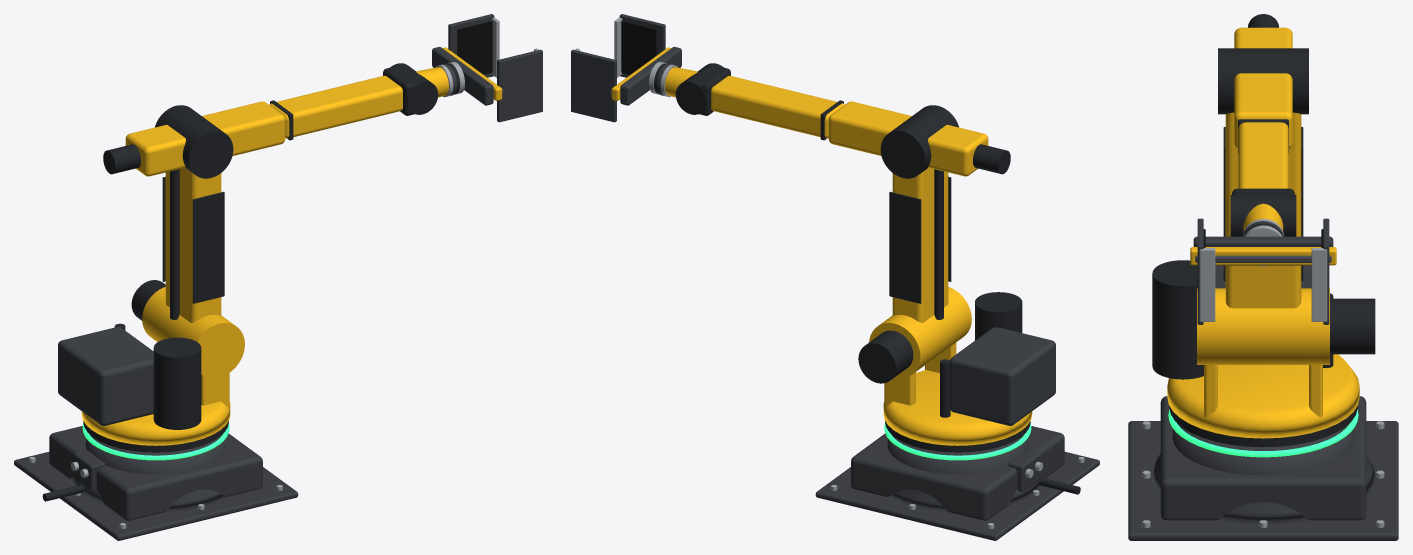
The model's file is robot_palletizer.glb.
3 renders of one model, left to right at view 1: azimuth 30°, elevation 25°; view 2: azimuth 150°, elevation 25°; view 3: azimuth 270°, elevation 25°, orthographic. The views are drawn at different scales.
Visible parts, largest first — view 1: Pedestal_base, Link1_body, Link1_dark, Link3_body, Link1_joint, Link4_body, Link2_accent, Link2_body, Link2_joint, Clamp_R_Mesh_dark, Clamp_L_Mesh_rubber, Link2_hose (+6 smaller); view 2: Pedestal_base, Link1_body, Link1_dark, Link3_body, Link4_body, Link1_joint, Link2_accent, Link2_body, Link2_joint, Clamp_L_Mesh_dark, Clamp_R_Mesh_rubber, Link2_hose (+7 smaller); view 3: Pedestal_base, Link1_body, Link1_joint, Link2_body, Link3_body, Link2_joint, Link4_body, Link5_joint, Pedestal_joint, ClampHead_dark, ClampHead_body, StatusRing (+12 smaller).
Part boxes in pixels (x1=…): Pedestal_base: x1=14, y1=426, x2=298, y2=540; Link1_body: x1=81, y1=287, x2=244, y2=445; Link1_dark: x1=58, y1=327, x2=153, y2=425; Link3_body: x1=125, y1=101, x2=285, y2=176; Link1_joint: x1=131, y1=280, x2=201, y2=429; Link4_body: x1=269, y1=75, x2=402, y2=138; Link2_accent: x1=162, y1=176, x2=224, y2=303; Link2_body: x1=165, y1=167, x2=221, y2=322; Link2_joint: x1=155, y1=105, x2=233, y2=178; Clamp_R_Mesh_dark: x1=497, y1=49, x2=542, y2=122; Clamp_L_Mesh_rubber: x1=457, y1=21, x2=492, y2=74; Link2_hose: x1=170, y1=169, x2=179, y2=319; Pedestal_base: x1=815, y1=426, x2=1099, y2=540; Link1_body: x1=869, y1=287, x2=1032, y2=445; Link1_dark: x1=950, y1=327, x2=1055, y2=425; Link3_body: x1=828, y1=101, x2=988, y2=176; Link4_body: x1=711, y1=75, x2=844, y2=138; Link1_joint: x1=858, y1=292, x2=1022, y2=383; Link2_accent: x1=889, y1=176, x2=951, y2=303; Link2_body: x1=892, y1=167, x2=948, y2=322; Link2_joint: x1=880, y1=105, x2=958, y2=178; Clamp_L_Mesh_dark: x1=571, y1=49, x2=616, y2=122; Clamp_R_Mesh_rubber: x1=621, y1=21, x2=656, y2=74; Link2_hose: x1=934, y1=169, x2=943, y2=319; Pedestal_base: x1=1128, y1=396, x2=1398, y2=540; Link1_body: x1=1167, y1=288, x2=1359, y2=438; Link1_joint: x1=1152, y1=260, x2=1375, y2=379; Link2_body: x1=1225, y1=112, x2=1301, y2=308; Link3_body: x1=1234, y1=27, x2=1292, y2=148; Link2_joint: x1=1218, y1=48, x2=1308, y2=114; Link4_body: x1=1238, y1=122, x2=1288, y2=188; Link5_joint: x1=1230, y1=195, x2=1296, y2=236; Pedestal_joint: x1=1169, y1=406, x2=1357, y2=447; ClampHead_dark: x1=1193, y1=236, x2=1333, y2=265; ClampHead_body: x1=1190, y1=247, x2=1336, y2=265; StatusRing: x1=1168, y1=409, x2=1358, y2=457.
Bounding box in the file's own units: 4.09 × 2.95 × 1.55.
